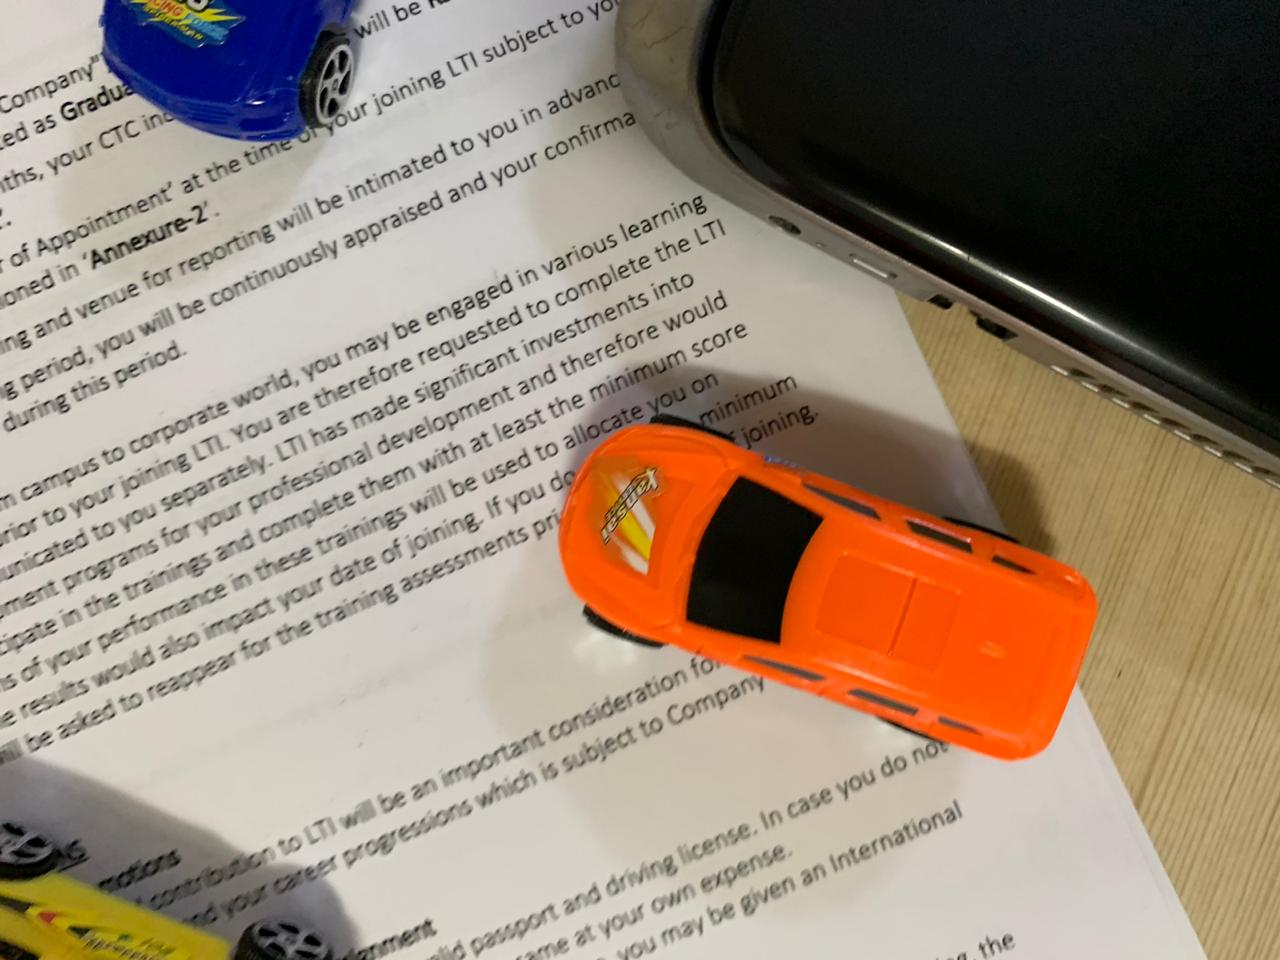car: (543, 365, 1106, 775)
